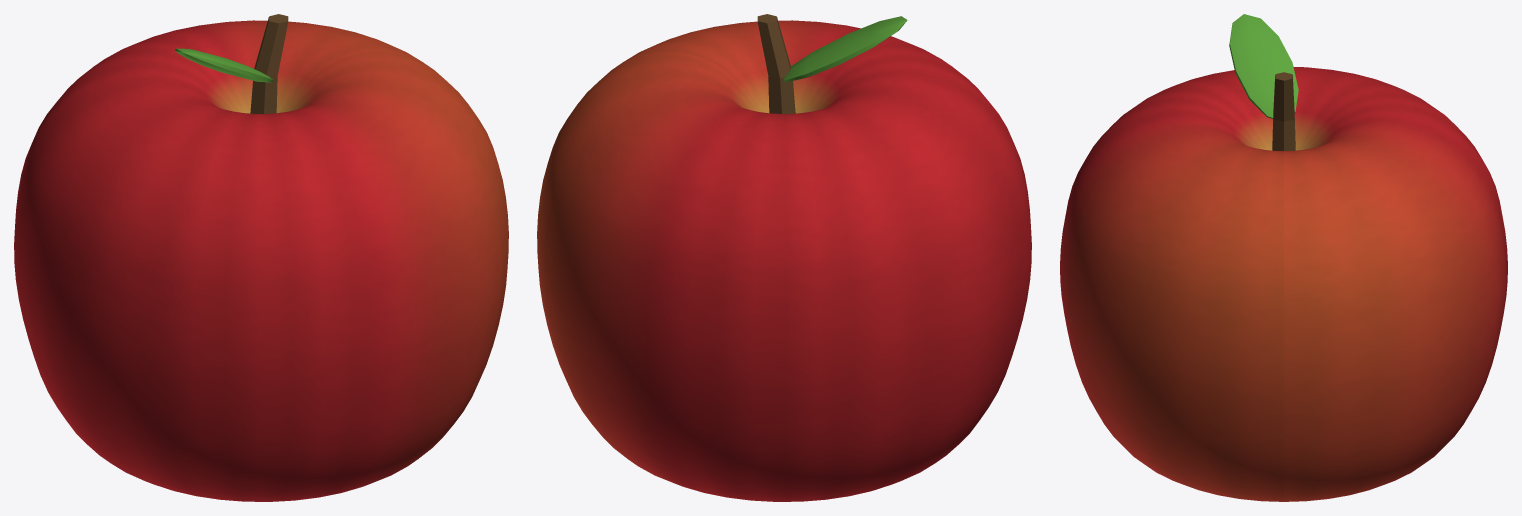
File: apple.glb
The picture shows the model from 3 angles, left to right: view 1: azimuth 30°, elevation 25°; view 2: azimuth 150°, elevation 25°; view 3: azimuth 270°, elevation 25°; orthographic projection. The views are drawn at different scales.
Parts seen in each view (by area): view 1: apple; view 2: apple; view 3: apple.
Part boxes in pixels (x1,y1,x2,y2): apple: (14, 14, 508, 501); apple: (537, 14, 1031, 501); apple: (1060, 14, 1507, 501).
Size of the model in its own units: 0.3975 by 0.385 by 0.3975.
1 material, 1 textured.
